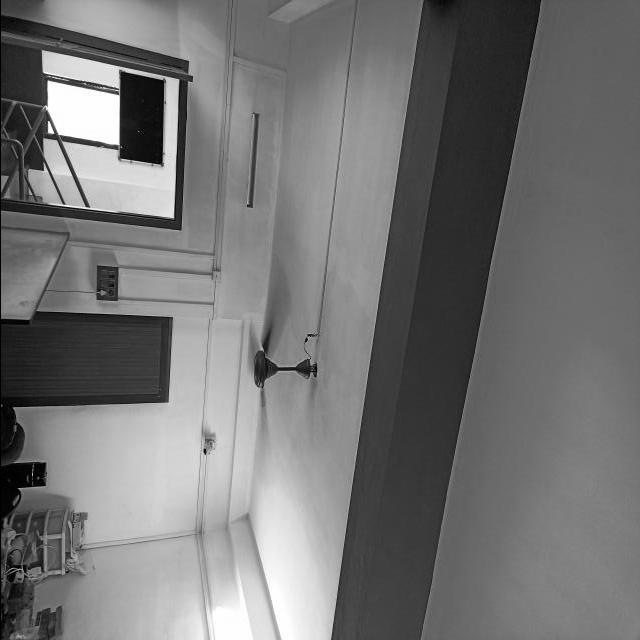fan: (250, 321, 318, 433)
light: (253, 350, 318, 389)
